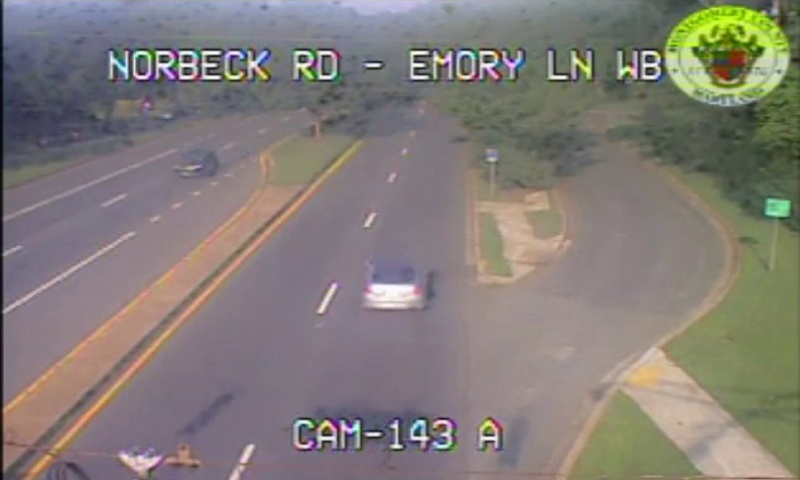car: (364, 262, 425, 310)
